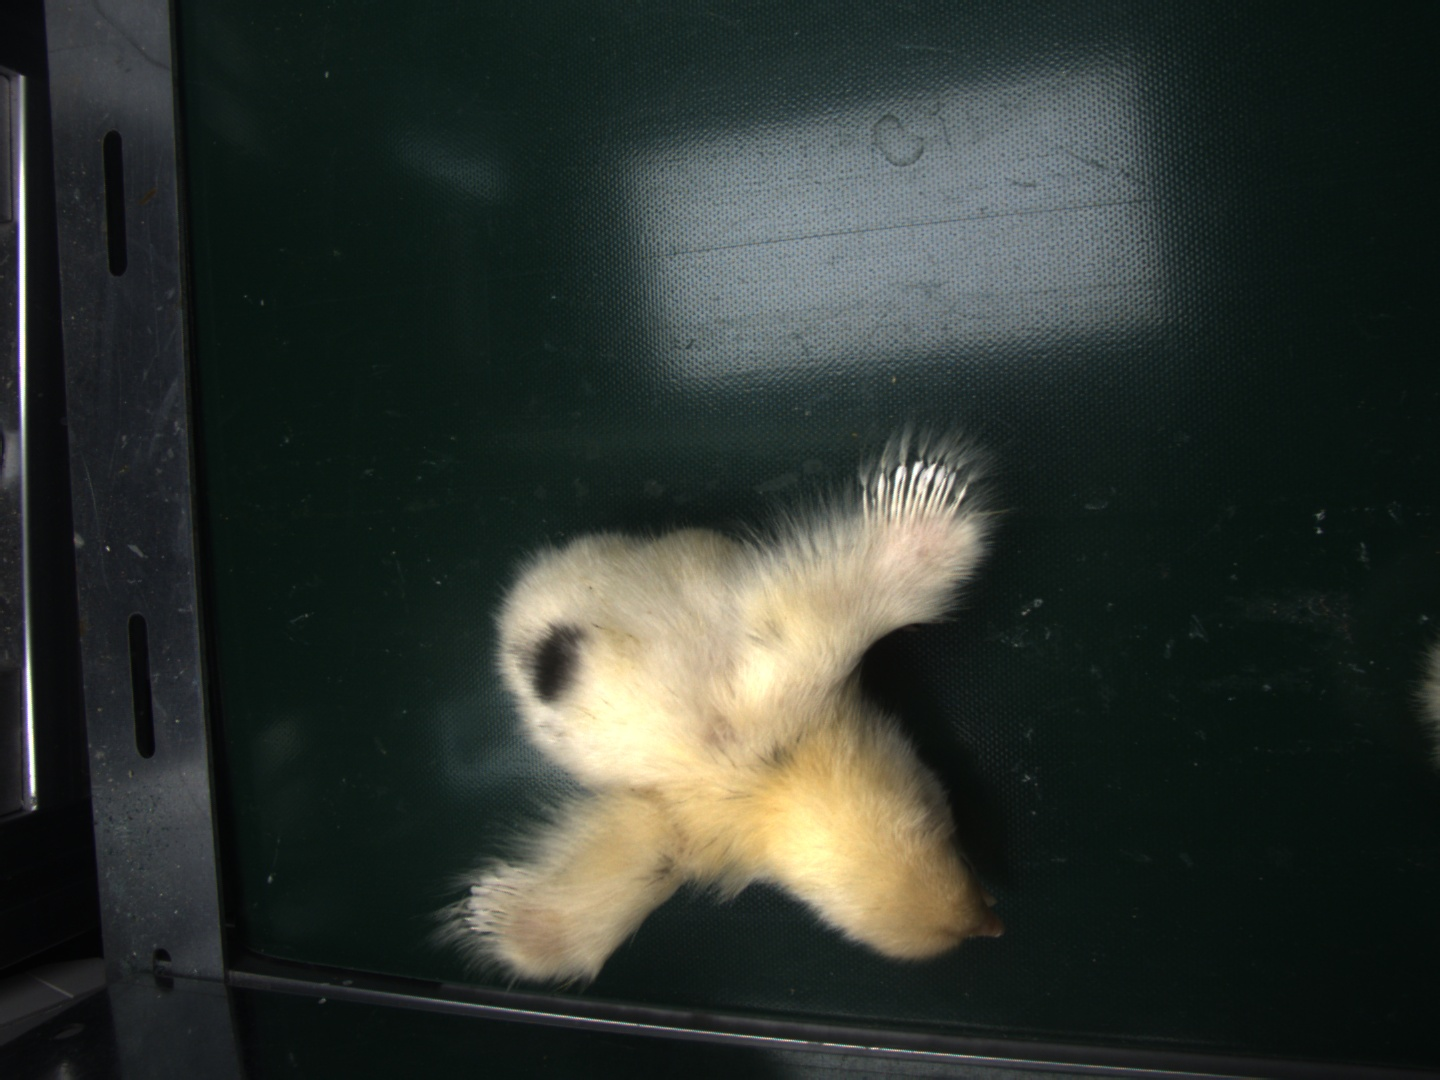male: (867, 456, 972, 523)
